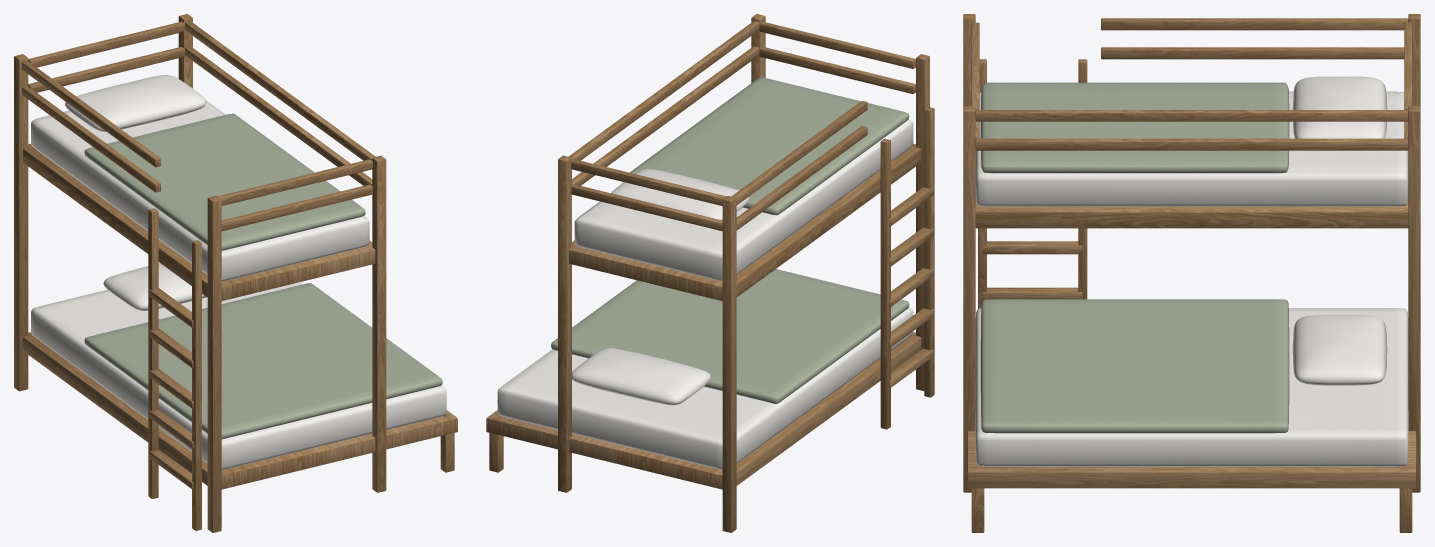
The model's file is litera_familiar_135_90_izquierda.glb.
The picture shows the model from 3 angles, left to right: view 1: azimuth 30°, elevation 25°; view 2: azimuth 150°, elevation 25°; view 3: azimuth 270°, elevation 25°; orthographic projection. The views are drawn at different scales.
Visible parts, largest first — view 1: litera_familiar_135_90_izquierda; view 2: litera_familiar_135_90_izquierda; view 3: litera_familiar_135_90_izquierda.
Boxes of the visible parts, box(x1,y1,x2,y2) form: litera_familiar_135_90_izquierda: box(14, 14, 457, 532); litera_familiar_135_90_izquierda: box(486, 14, 934, 532); litera_familiar_135_90_izquierda: box(963, 14, 1420, 532).
Size of the model in its own units: 1.51 by 1.85 by 2.01.
Materials: 3 (3 with a texture image).
